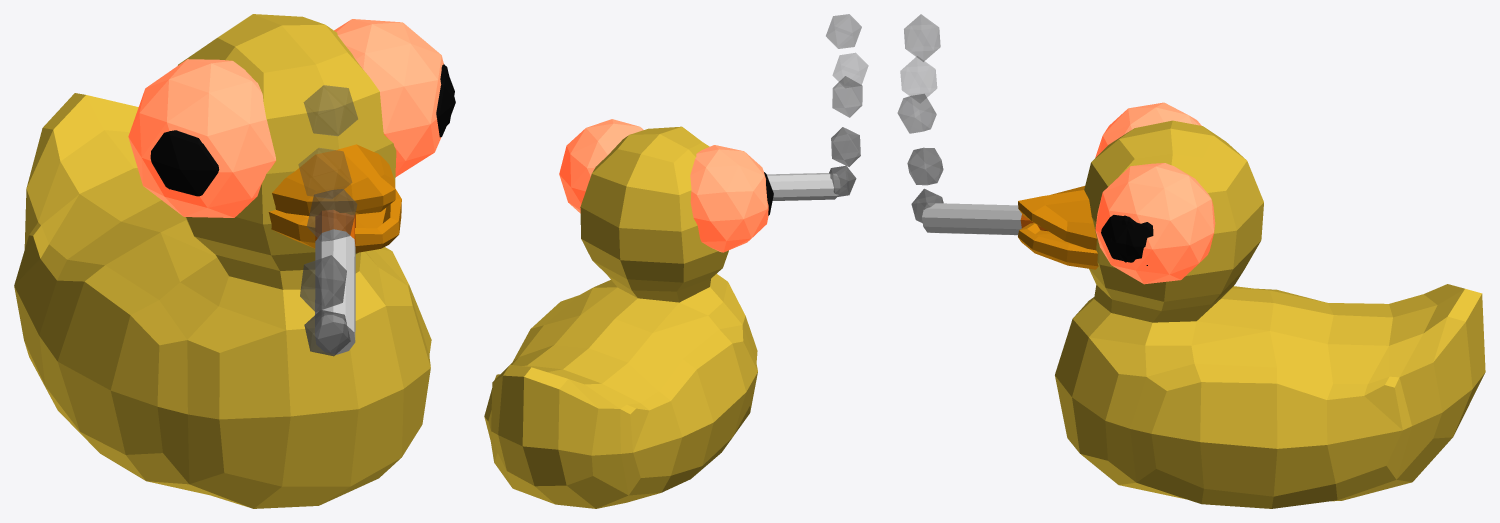
The model's file is rubber_duck_V1.glb.
The picture shows the model from 3 angles, left to right: view 1: azimuth 30°, elevation 25°; view 2: azimuth 150°, elevation 25°; view 3: azimuth 270°, elevation 25°; orthographic projection. The views are drawn at different scales.
Parts seen in each view (by area): view 1: RubberDuck, Icosphere.005, RubberDuck.001, Icosphere.001, Cylinder, Icosphere.004, Icosphere.009, Icosphere.006, Icosphere.007, Icosphere.008, Icosphere, Cylinder.001 (+1 smaller); view 2: RubberDuck, Icosphere.005, Icosphere.001, Cylinder, Icosphere.006, Icosphere.009, Icosphere.007, Icosphere.008, Icosphere; view 3: RubberDuck, Icosphere.001, RubberDuck.001, Cylinder, Icosphere.005, Icosphere.009, Icosphere.007, Icosphere.006, Icosphere.008, Icosphere.002, Icosphere.003.
Part boxes in pixels (x1,y1,x2,y2): RubberDuck: (14,14,431,508); Icosphere.005: (128,59,275,217); RubberDuck.001: (268,144,401,252); Icosphere.001: (334,19,443,176); Cylinder: (315,229,355,354); Icosphere.004: (150,130,219,196); Icosphere.009: (303,85,357,136); Icosphere.006: (307,189,357,241); Icosphere.007: (298,148,351,198); Icosphere.008: (300,255,346,311); Icosphere: (304,310,350,356); Cylinder.001: (315,210,355,246); RubberDuck: (484,126,757,508); Icosphere.005: (690,145,768,252); Icosphere.001: (559,119,643,213); Cylinder: (766,173,840,200); Icosphere.006: (832,76,862,117); Icosphere.009: (826,14,861,48); Icosphere.007: (832,53,868,87); Icosphere.008: (831,127,860,166); Icosphere: (829,165,856,196); RubberDuck: (1055,120,1485,508); Icosphere.001: (1095,163,1215,284); RubberDuck.001: (1018,186,1098,269); Cylinder: (922,203,1021,235); Icosphere.005: (1095,102,1201,157); Icosphere.009: (904,14,940,61); Icosphere.007: (900,56,936,102); Icosphere.006: (897,94,936,133); Icosphere.008: (907,147,943,185); Icosphere.002: (1101,215,1143,262); Icosphere.003: (1111,215,1153,265).
Bounding box in the file's own units: 0.4746 × 0.8312 × 1.05.
